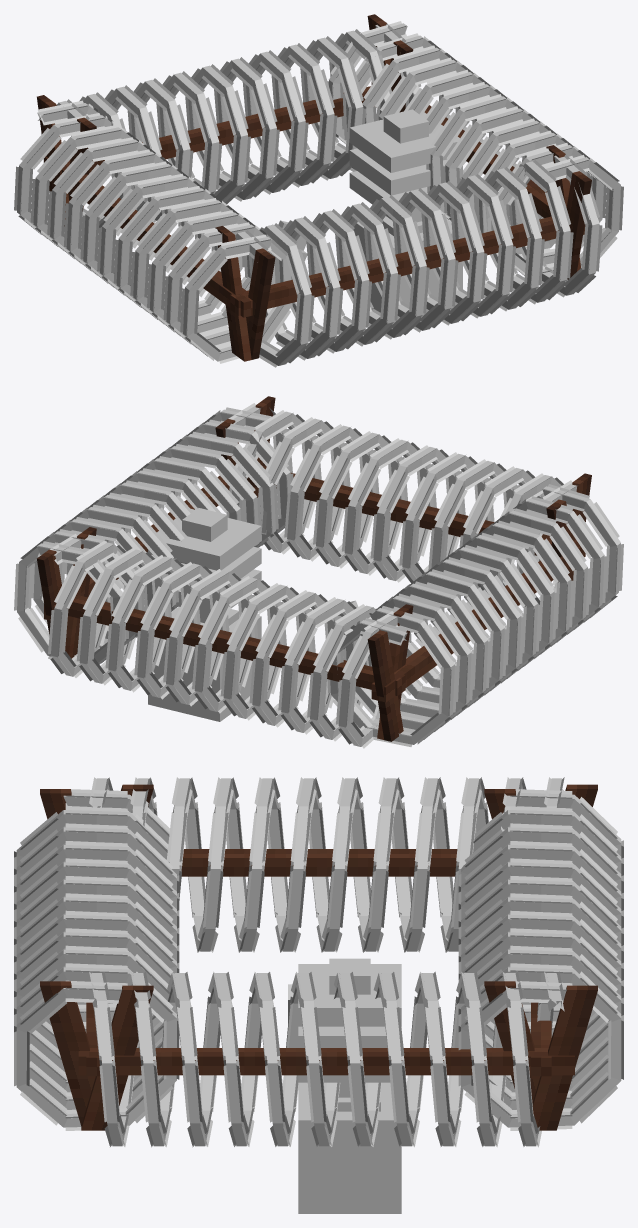
File: upgrade_taser_locks.obj
3 views of the same model, one above another, from view 1: azimuth 30°, elevation 25°; view 2: azimuth 150°, elevation 25°; view 3: azimuth 270°, elevation 25° (orthographic). The views are drawn at different scales.
Parts seen in each view (by area): view 1: barbs, plank, cube; view 2: barbs, plank, cube; view 3: barbs, plank, cube.
Part boxes in pixels (x1=…): barbs: x1=14, y1=21, x2=623, y2=367; plank: x1=37, y1=14, x2=591, y2=361; cube: x1=278, y1=109, x2=462, y2=321; barbs: x1=14, y1=403, x2=623, y2=748; plank: x1=37, y1=396, x2=591, y2=741; cube: x1=148, y1=508, x2=358, y2=721; barbs: x1=14, y1=777, x2=623, y2=1147; plank: x1=40, y1=784, x2=597, y2=1130; cube: x1=288, y1=958, x2=401, y2=1213.
Size of the model in its own units: 3.78 by 1.62 by 3.69.
